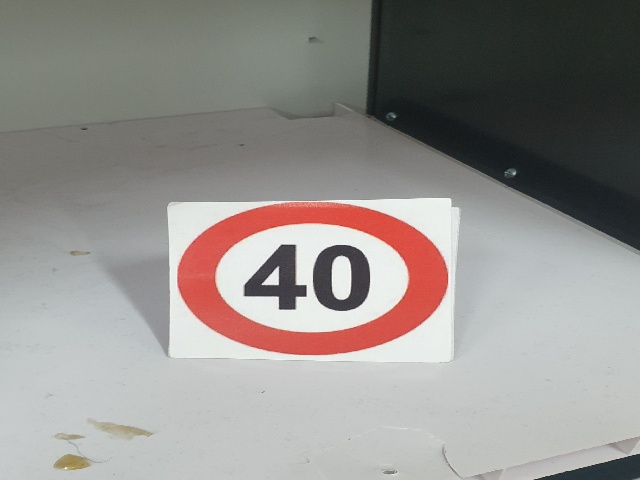Limit 40: (173, 203, 452, 357)
